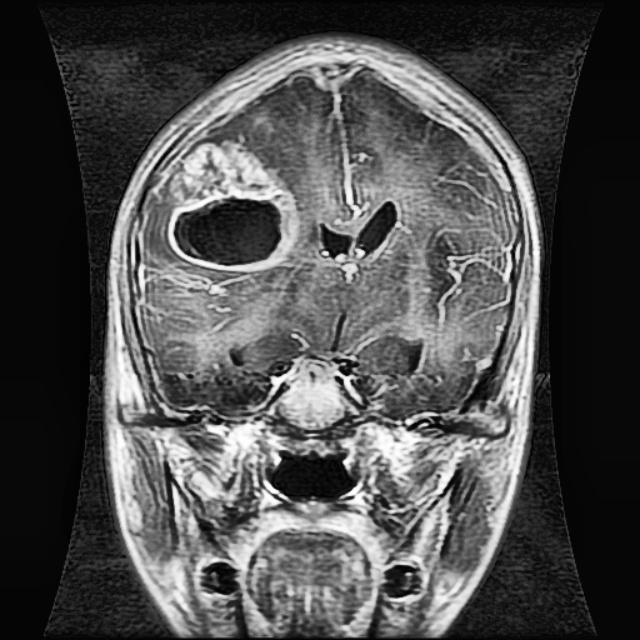Meningioma: (165, 139, 299, 272)
